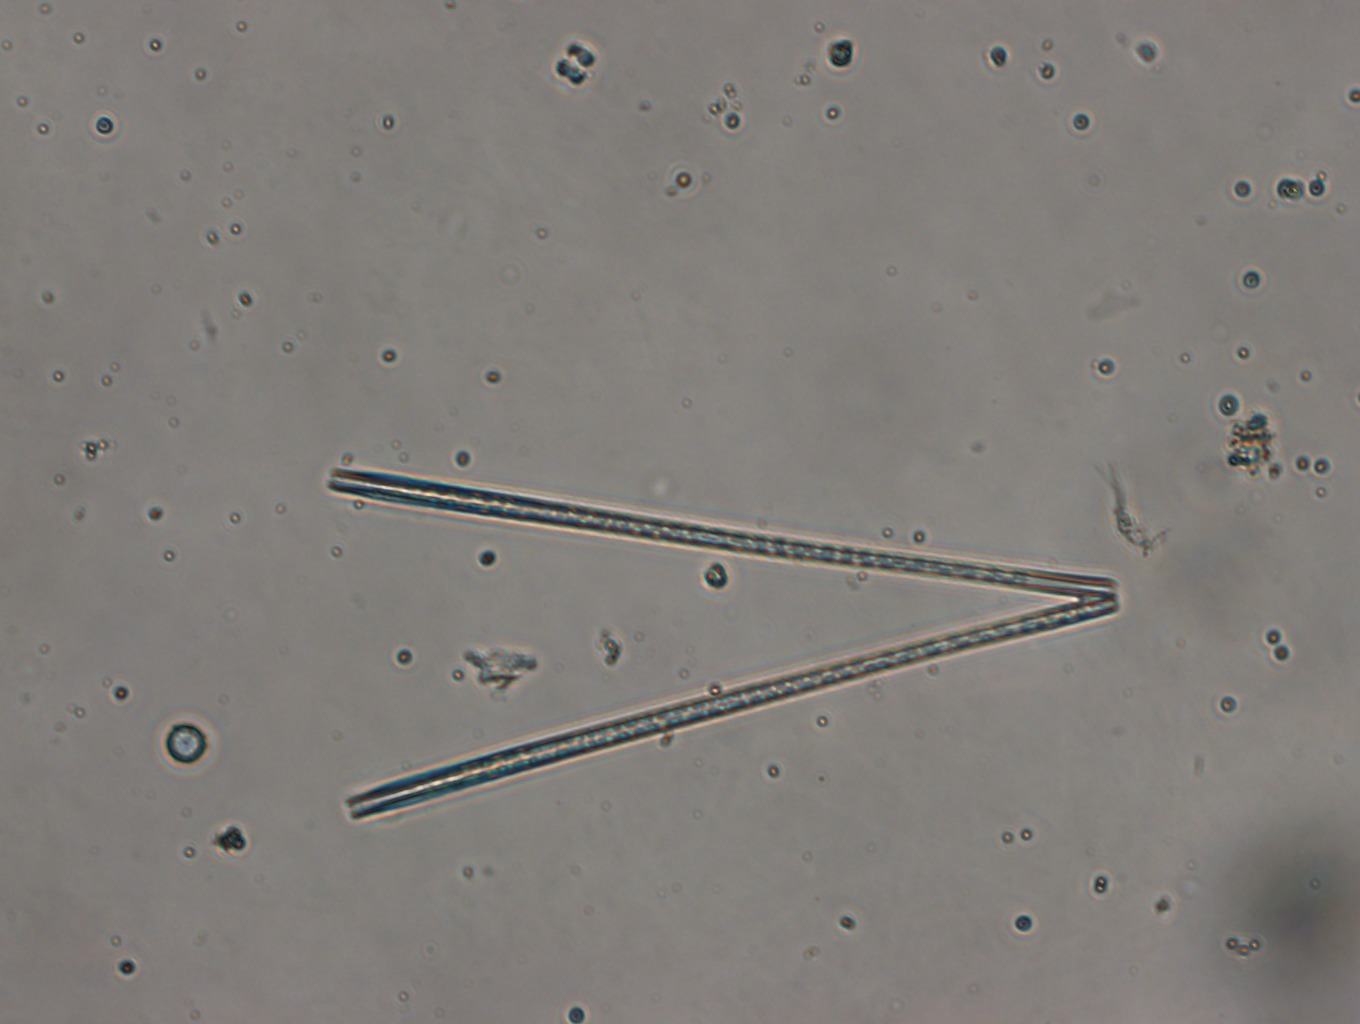thalassionema frauenfeldii: (318, 450, 1132, 822)
